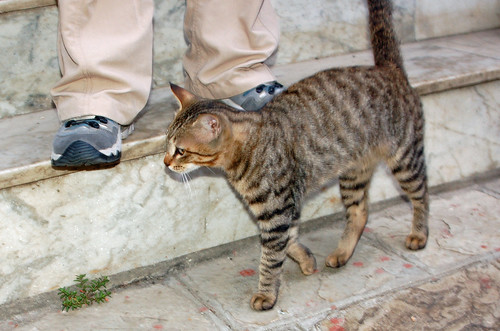cat: (158, 1, 445, 320)
